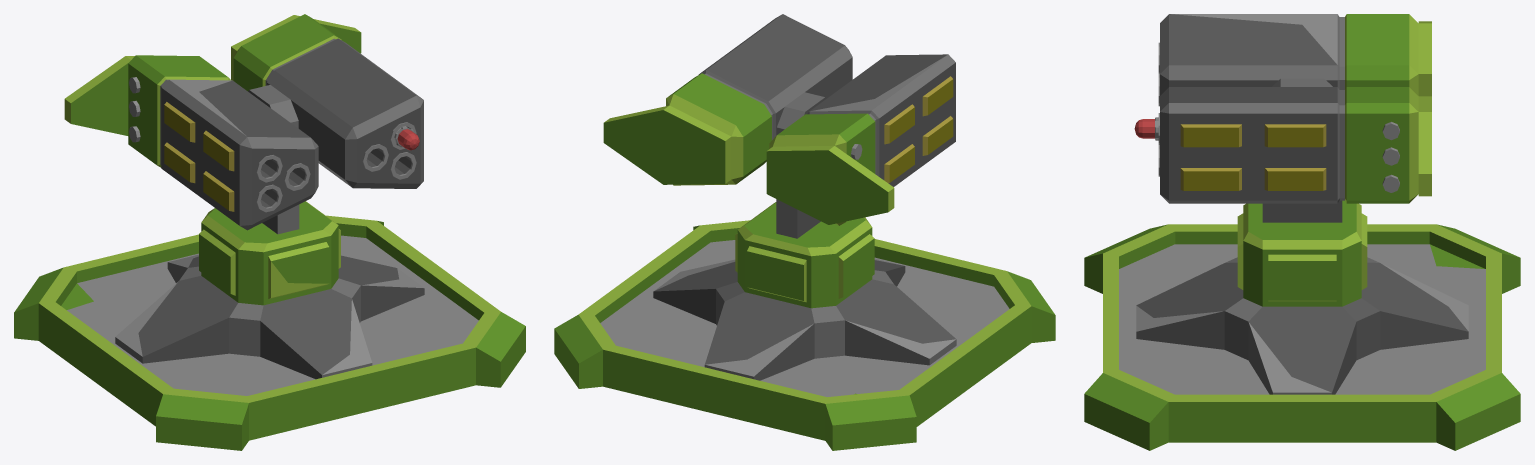
The model's file is tower_rocket_green_2.fbx.
3 views of the same model, side by side, from view 1: azimuth 30°, elevation 25°; view 2: azimuth 150°, elevation 25°; view 3: azimuth 270°, elevation 25° (orthographic). The views are drawn at different scales.
Visible parts, largest first — view 1: top_rocket_green_2, tower_rocket_green_2; view 2: top_rocket_green_2, tower_rocket_green_2; view 3: top_rocket_green_2, tower_rocket_green_2, rocket_green_2.
Boxes of the visible parts, x1,y1,x2,y2 form: top_rocket_green_2: [64, 14, 424, 379]; tower_rocket_green_2: [14, 215, 525, 450]; top_rocket_green_2: [603, 14, 956, 380]; tower_rocket_green_2: [554, 220, 1055, 450]; top_rocket_green_2: [1136, 14, 1468, 394]; tower_rocket_green_2: [1084, 224, 1520, 450]; rocket_green_2: [1134, 117, 1158, 140].
Bounding box in the file's own units: 173 × 123 × 164.
